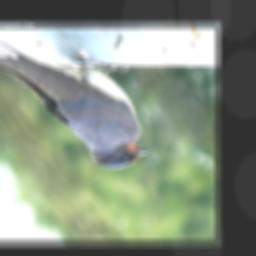Swallow: (0, 22, 151, 169)
